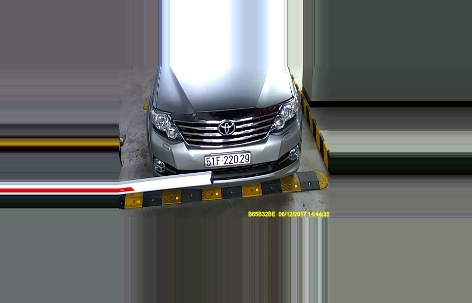plate: (201, 152, 254, 167)
